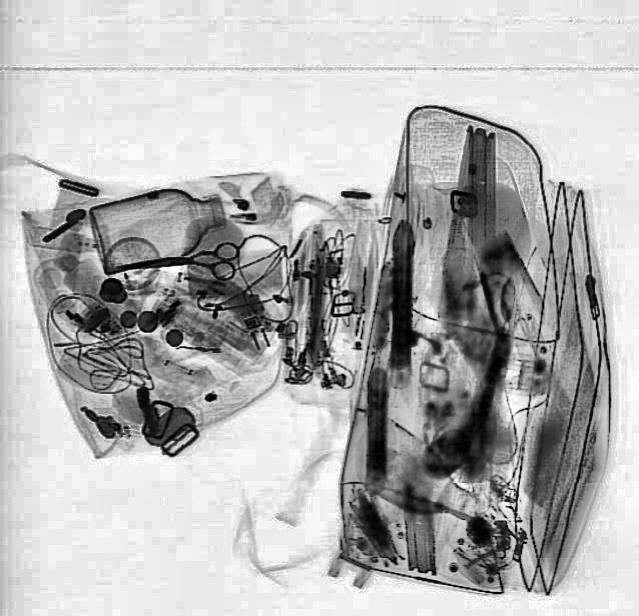Scissors: (106, 240, 242, 288)
